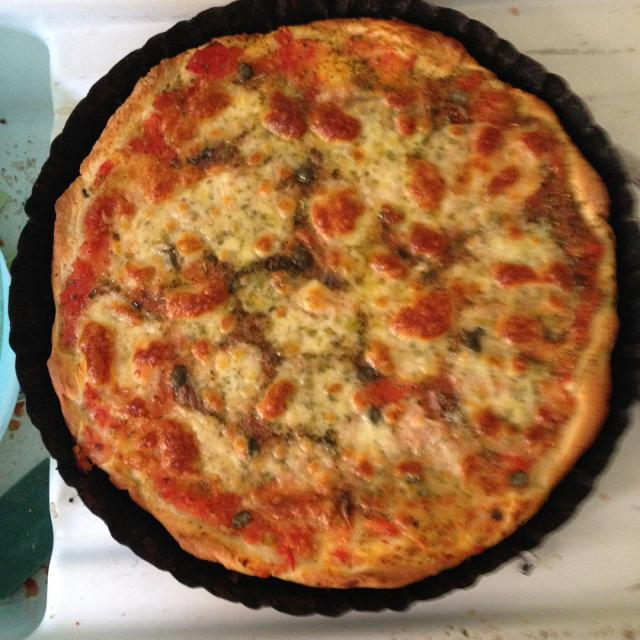pizza: (48, 19, 618, 587)
